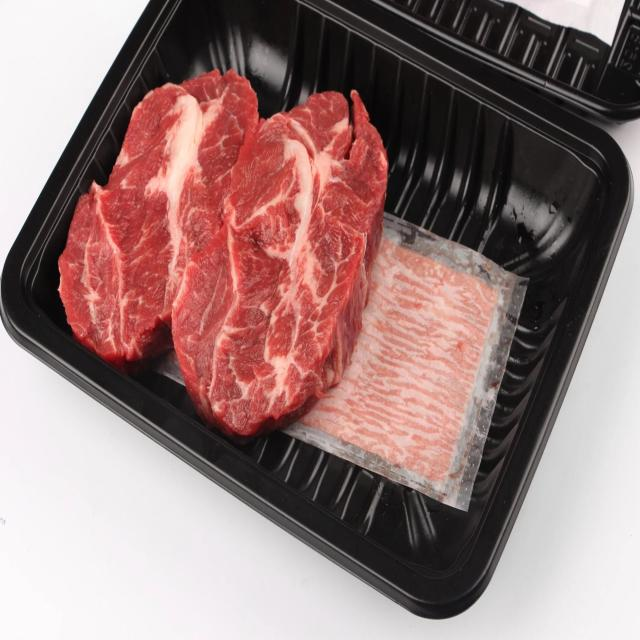pork: (25, 10, 418, 481)
